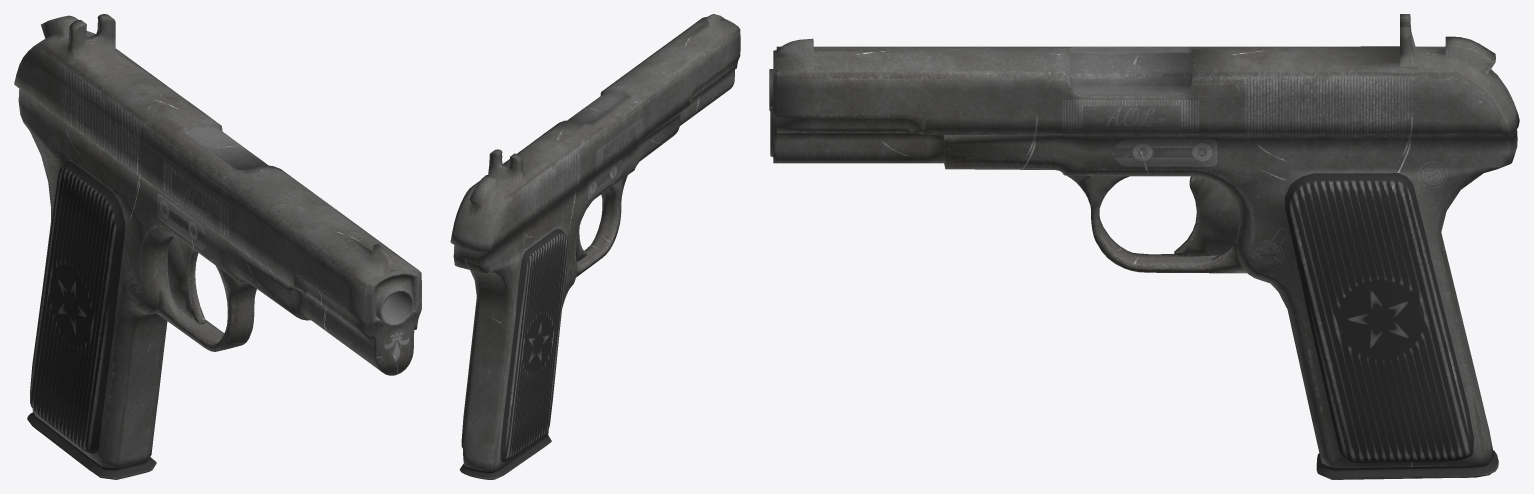
3 views of the same model, side by side, from view 1: azimuth 30°, elevation 25°; view 2: azimuth 150°, elevation 25°; view 3: azimuth 270°, elevation 25° (orthographic). The views are drawn at different scales.
Parts seen in each view (by area): view 1: gun_low; view 2: gun_low; view 3: gun_low.
Part boxes in pixels (left/top/right/bottom): gun_low: left=14, top=14, right=421, bottom=479; gun_low: left=450, top=14, right=740, bottom=479; gun_low: left=769, top=14, right=1519, bottom=479.
Bounding box in the file's own units: 2.5 × 15.43 × 23.57.
Materials: 1 (1 with a texture image).
